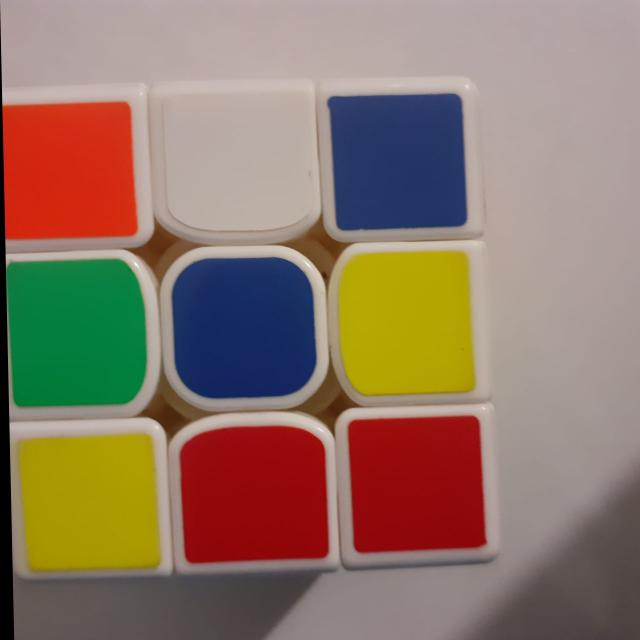Blue: (163, 252, 322, 404), (325, 90, 473, 230)
Green: (5, 260, 153, 412)
Orange: (2, 101, 148, 246)
Red: (337, 410, 490, 566), (172, 424, 331, 574)
White: (154, 89, 316, 233)
Yellow: (7, 428, 166, 580), (327, 249, 481, 403)
